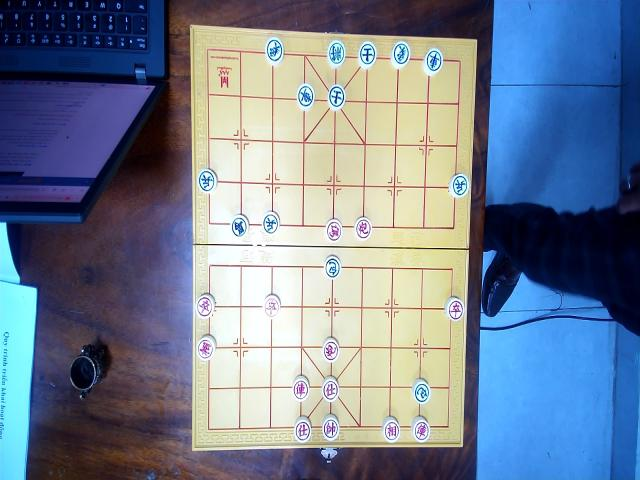piece: (448, 171, 470, 199), (422, 47, 442, 76), (326, 39, 346, 67), (195, 292, 215, 319), (196, 334, 216, 361), (410, 415, 430, 442), (390, 41, 410, 68), (411, 378, 431, 405), (265, 36, 284, 64), (294, 415, 312, 444), (381, 416, 400, 443), (358, 41, 377, 68), (444, 296, 464, 321), (197, 168, 217, 193), (322, 337, 340, 364), (292, 374, 310, 401), (296, 83, 314, 110), (322, 415, 340, 441), (263, 293, 281, 318), (354, 215, 372, 240), (324, 217, 342, 242), (230, 214, 248, 239), (321, 376, 338, 402), (262, 212, 280, 236), (328, 82, 344, 108), (324, 254, 341, 278)
